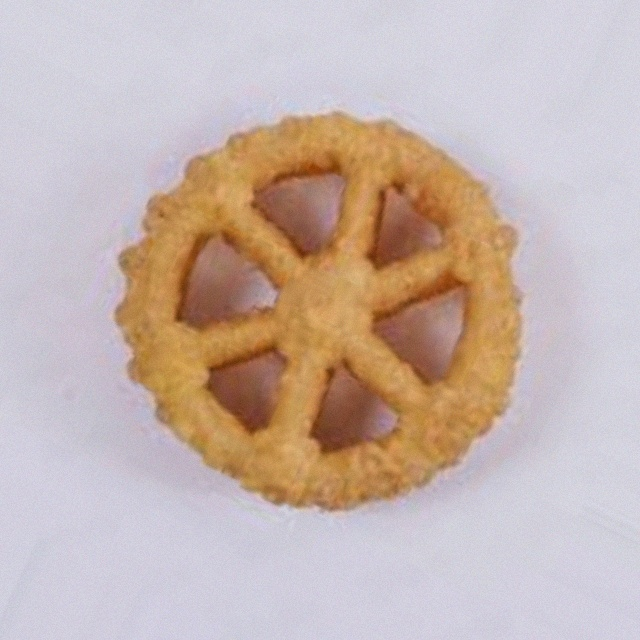Kokis: (122, 71, 518, 569)
